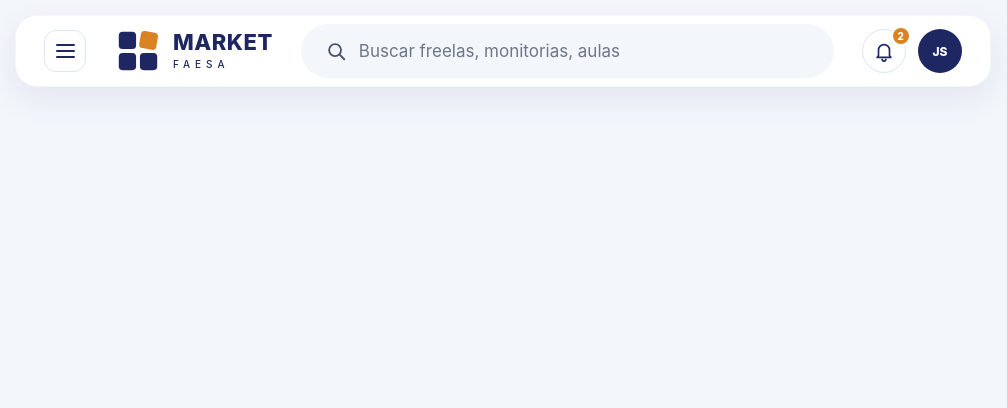
Test: sino de notificações › abre com as 10 últimas da API
Click the button named "Notificações" at (884, 51), box [862,29,906,73]
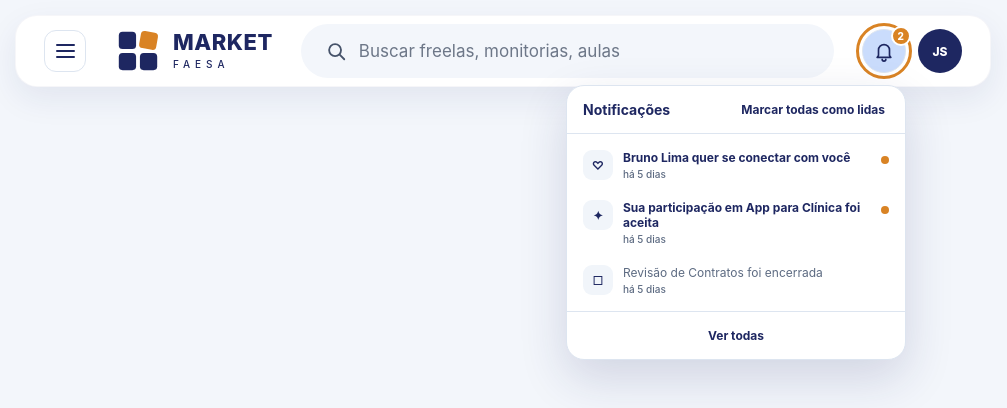
Expected: the text "Bruno Lima quer se conectar com você" is shown, [623,150,871,165]
Expected: the number of list items is 3, [573,140,899,190]; [573,190,899,255]; [573,255,899,305]
Expected: the button named "Não lida: Bruno Lima" is shown, [573,140,899,190]
